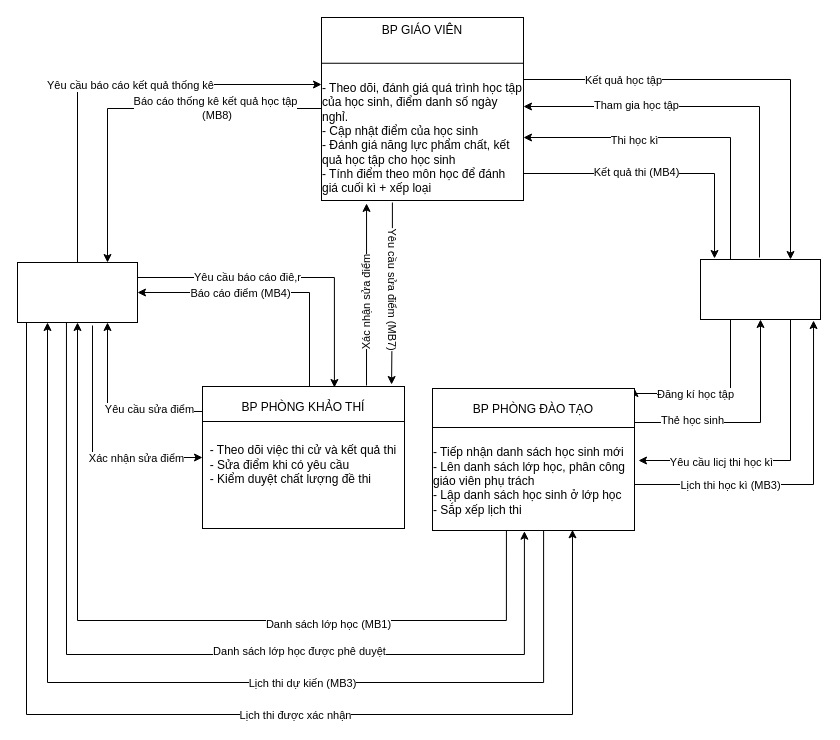
Some shapes in this 840 by 740 pixel diagram are drawn without their labels. Here are the shapes that lost their labels. From the top down, the box of each, then its label:
(16, 262, 138, 322): BAN GIÁM HIỆU
(700, 258, 820, 320): HỌC SINH
